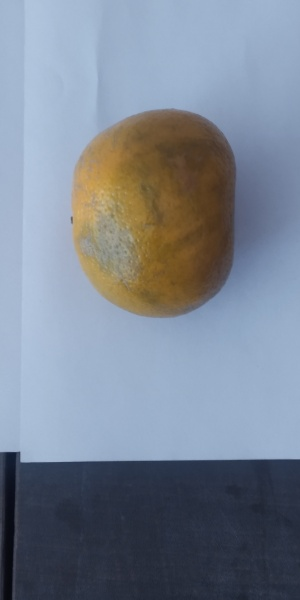BAD: (69, 107, 244, 322)
